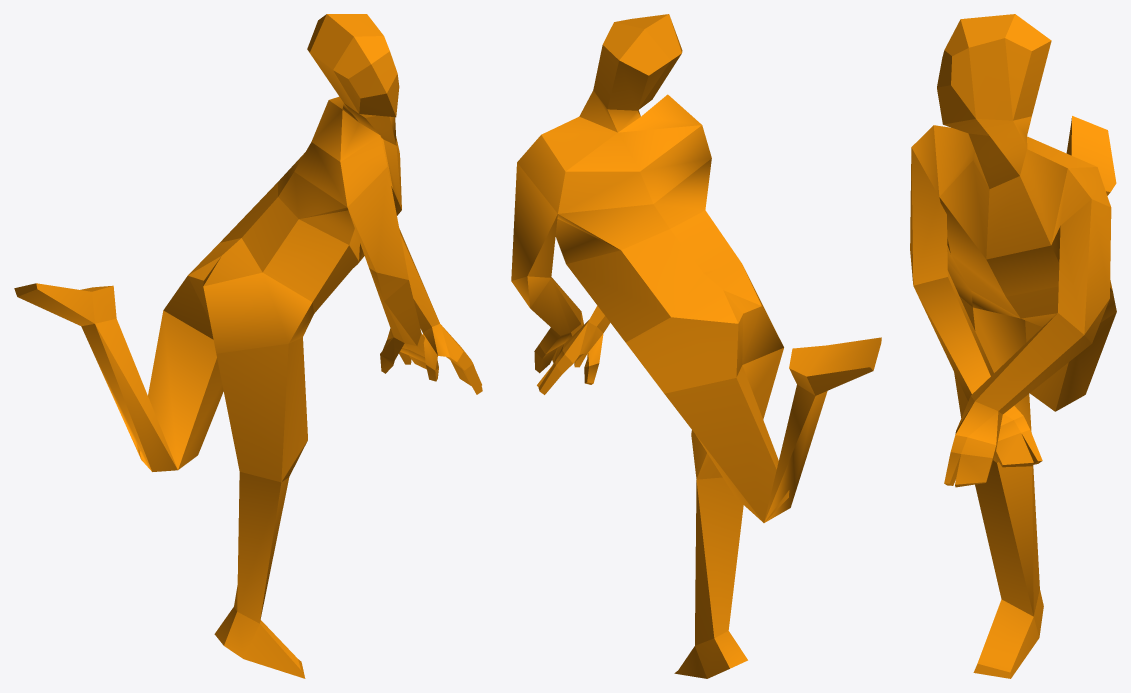
Rendered from Human04.fbx.
3 views of the same model, side by side, from view 1: azimuth 30°, elevation 25°; view 2: azimuth 150°, elevation 25°; view 3: azimuth 270°, elevation 25° (orthographic). The views are drawn at different scales.
Visible parts, largest first — view 1: Human04; view 2: Human04; view 3: Human04.
Part boxes in pixels (left/top/right/bottom): Human04: left=14, top=14, right=482, bottom=678; Human04: left=511, top=14, right=881, bottom=678; Human04: left=910, top=14, right=1116, bottom=678.
Size of the model in its own units: 107 by 165 by 45.59.
